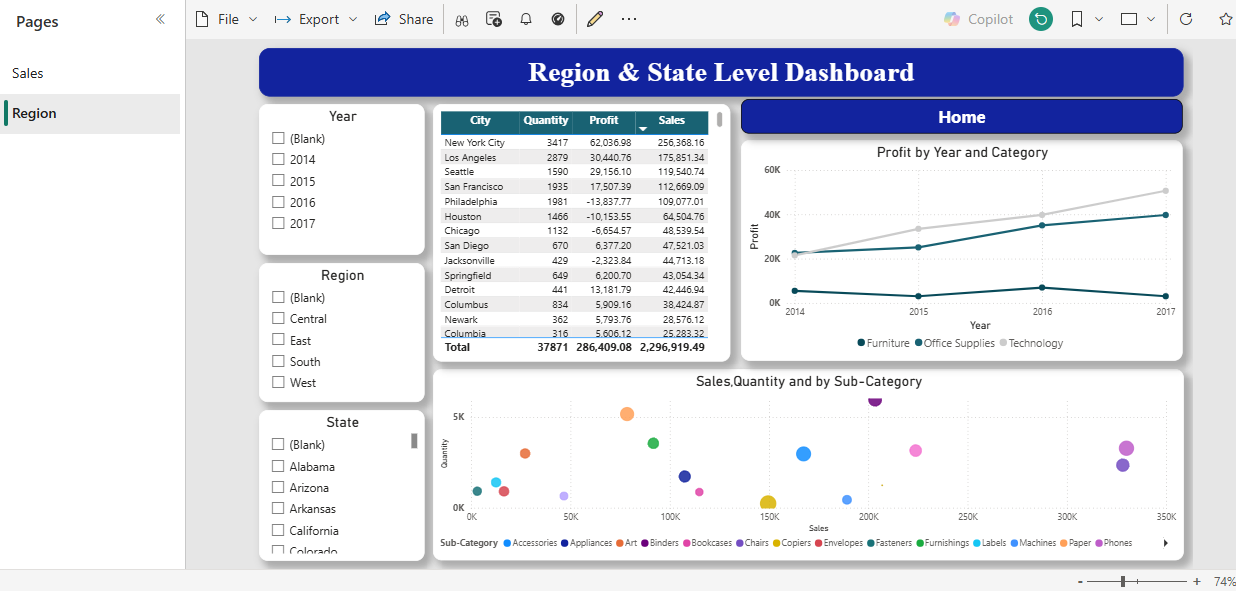

This screenshot's page, from the dashboard's own definition file:
{"tool":"powerbi","page":{"name":"Region","canvas":[1280,720],"ordinal":1},"visuals":[{"type":"textbox","box":[11.8,11.8,1256.5,65.5],"z":0},{"type":"slicer","title":"Year","fields":{"Values":["Orders.Year"]},"box":[11.7,87.8,225.4,204.9],"z":1000},{"type":"slicer","title":"Region","fields":{"Values":["Orders.Region"]},"box":[11.7,304.4,225.4,188.8],"z":2000},{"type":"slicer","title":"State","fields":{"Values":["Orders.State"]},"box":[11.7,503.4,225.4,204.9],"z":3000},{"type":"scatterChart","title":"Sales,Quantity and by Sub-Category","fields":{"X":["Sum(Orders.Sales)"],"Y":["Sum(Orders.Quantity)"],"Series":["Orders.Sub-Category"],"Size":["Sum(Orders.Profit)"]},"box":[248.8,447.8,1020,260.5],"z":4000},{"type":"tableEx","fields":{"Values":["Orders.City","Sum(Orders.Quantity)","Sum(Orders.Profit)","Sum(Orders.Sales)"]},"box":[248.8,87.8,403.9,349.8],"z":5000},{"type":"lineChart","fields":{"Category":["Orders.Year"],"Y":["Sum(Orders.Profit)"],"Series":["Orders.Category"]},"box":[667.3,137.6,600,300],"z":6000},{"type":"actionButton","box":[667.3,82,600,46.8],"z":7000}]}

Visuals, with their boxes on the page's 1280x720 design canvas (x1, y1, x2, y2). These are canvas units, not pixel positions in the 1236x591 screenshot, which may show the page scaled, cropped or inside an application window:
textbox: detection(12, 12, 1268, 77)
"Year" slicer: detection(12, 88, 237, 293)
"Region" slicer: detection(12, 304, 237, 493)
"State" slicer: detection(12, 503, 237, 708)
"Sales,Quantity and by Sub-Category" scatterChart: detection(249, 448, 1269, 708)
tableEx - Orders.City x Sum(Orders.Quantity): detection(249, 88, 653, 438)
lineChart - Orders.Year x Sum(Orders.Profit): detection(667, 138, 1267, 438)
actionButton: detection(667, 82, 1267, 129)
